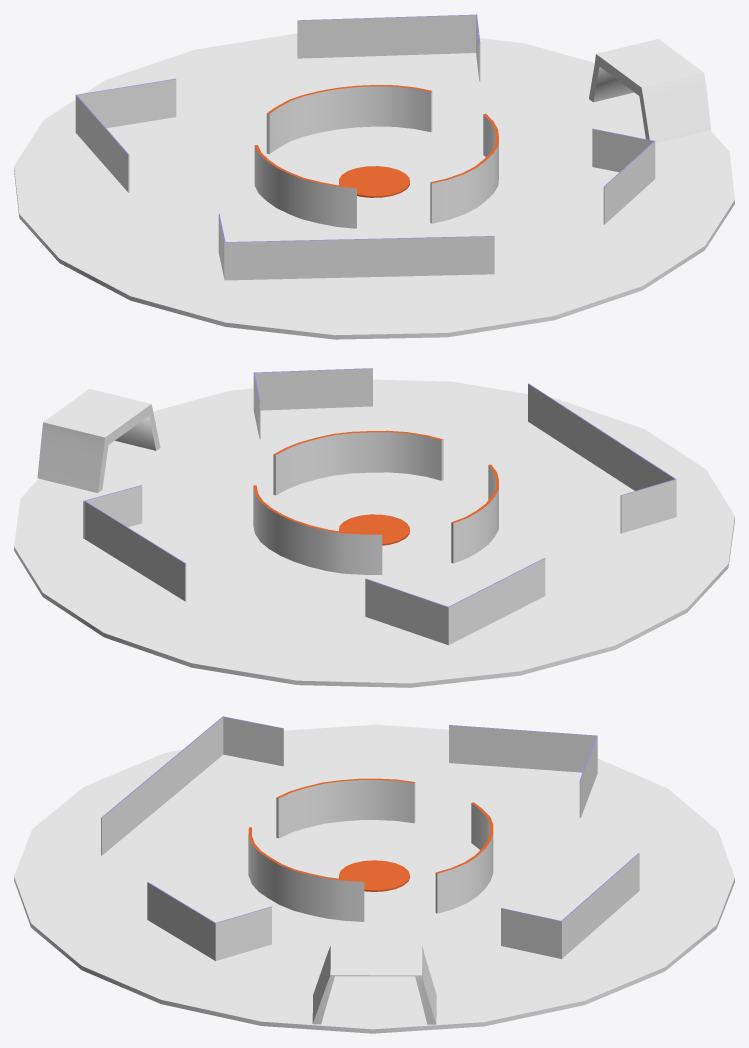
File: sketchroom_new.fbx
The picture shows the model from 3 angles, top to bottom: view 1: azimuth 30°, elevation 25°; view 2: azimuth 150°, elevation 25°; view 3: azimuth 270°, elevation 25°; orthographic projection.
Parts seen in each view (by area): view 1: sketchroom_new:ske_door1; view 2: sketchroom_new:ske_door1; view 3: sketchroom_new:ske_door1.
Boxes of the visible parts, x1=… form: sketchroom_new:ske_door1: x1=14, y1=14, x2=734, y2=339; sketchroom_new:ske_door1: x1=14, y1=368, x2=734, y2=687; sketchroom_new:ske_door1: x1=14, y1=716, x2=734, y2=1033.
Size of the model in its own units: 6409 by 544 by 6409.
Materials: 1 (1 with a texture image).
